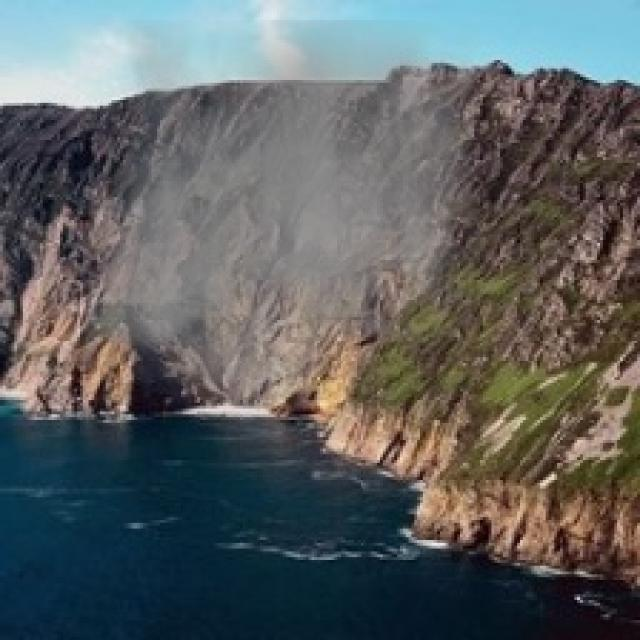Smoke: (86, 19, 480, 432)
